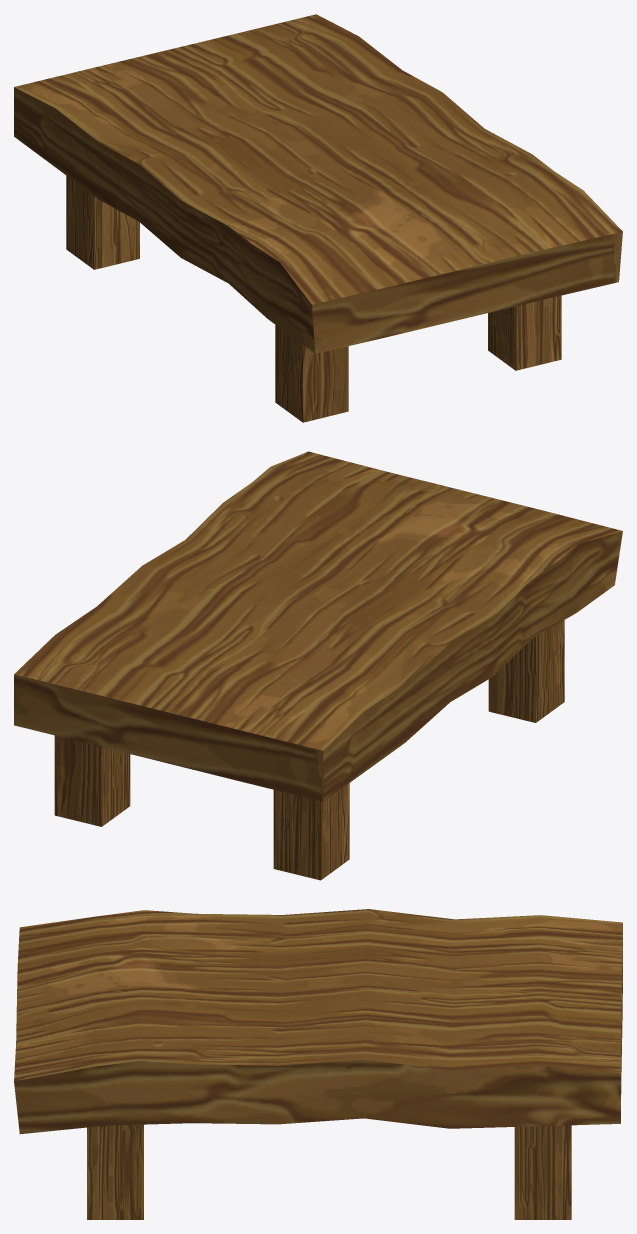
File: Table.fbx
3 renders of one model, top to bottom at view 1: azimuth 30°, elevation 25°; view 2: azimuth 150°, elevation 25°; view 3: azimuth 270°, elevation 25°, orthographic. The views are drawn at different scales.
Visible parts, largest first — view 1: table.003; view 2: table.003; view 3: table.003.
Part boxes in pixels (<box>): table.003: <box>14,14,622,422</box>; table.003: <box>14,451,622,880</box>; table.003: <box>14,909,622,1219</box>.
Size of the model in its own units: 51.3 by 25.9 by 84.76.
1 material, 1 textured.
